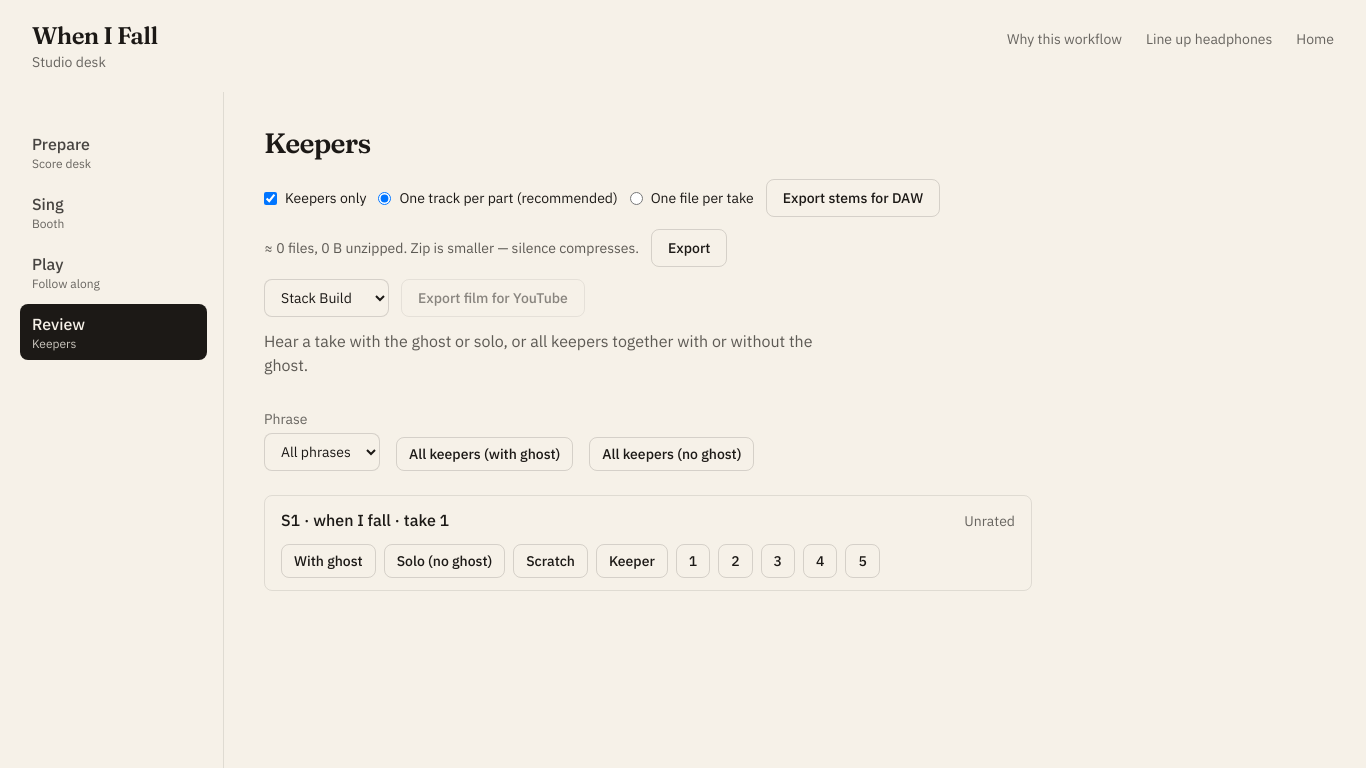
Scenario: ReviewPage › shows No takes to export when keepers only and all takes are unrated
This screenshot has width=1366, height=768.
Expected: the checkbox labelled "Keepers only" is checked, [264,192,277,205]
Click the button "Export stems for DAW": (853, 198) [766,179,940,217]
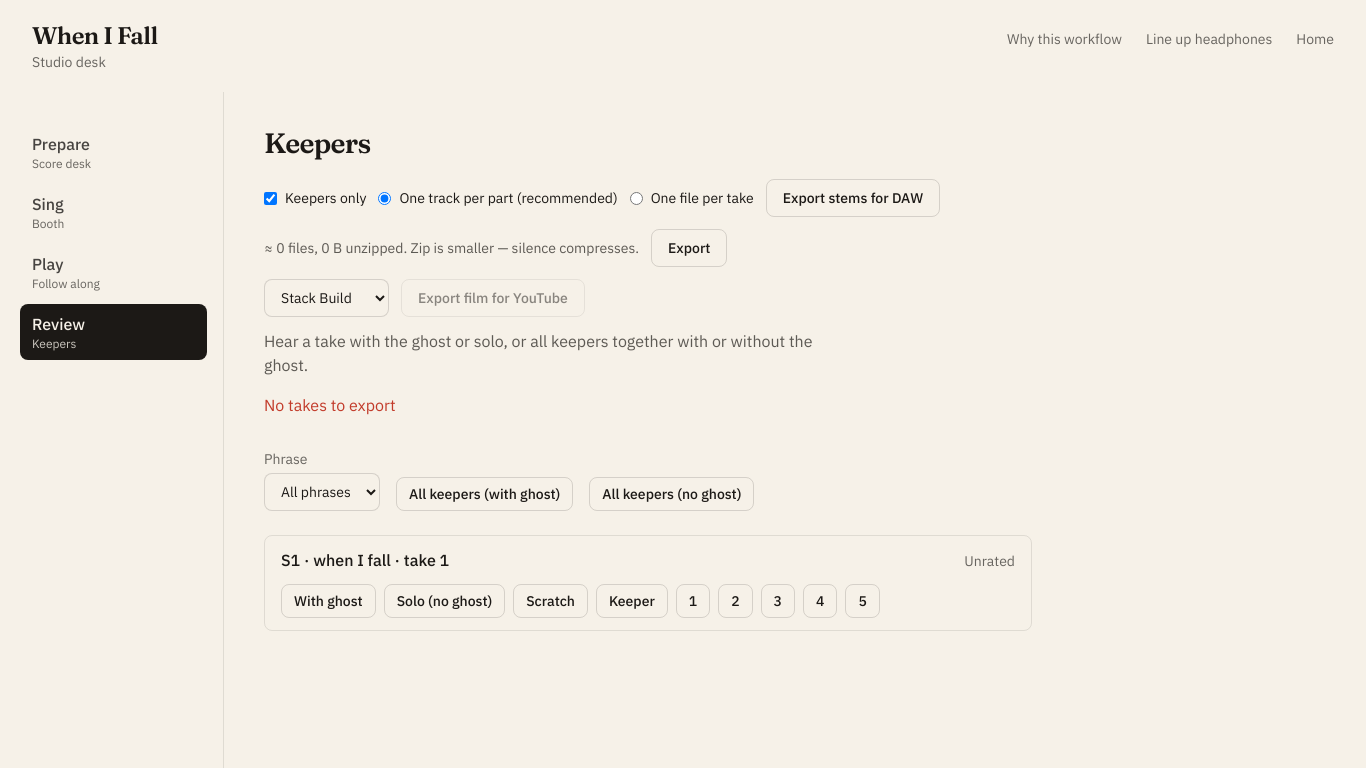
Expected: the message reads "No takes to export", [264,395,396,415]
